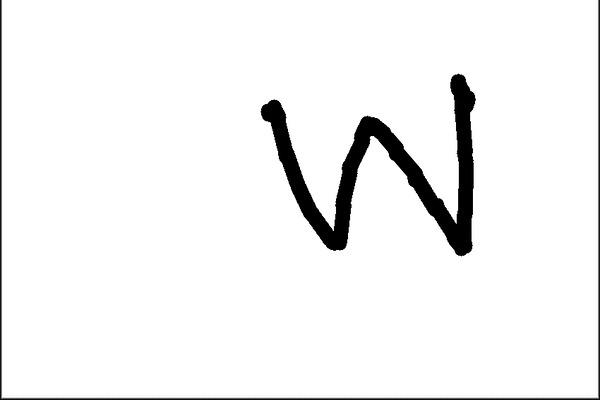w: (246, 60, 519, 272)
